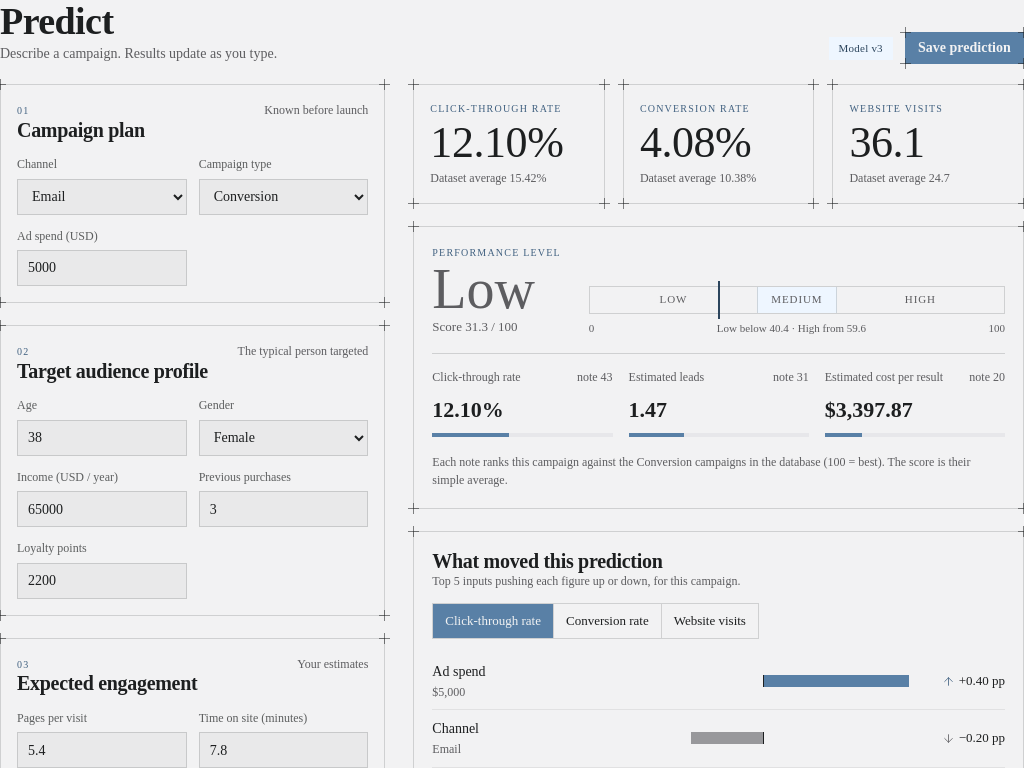
Test case: PredictView (live results, no Predict button) › saves with an optional name (default 'Channel · Type'), then confirms with a toast
Click the button "Save prediction" at (964, 48), box [905,32,1023,64]
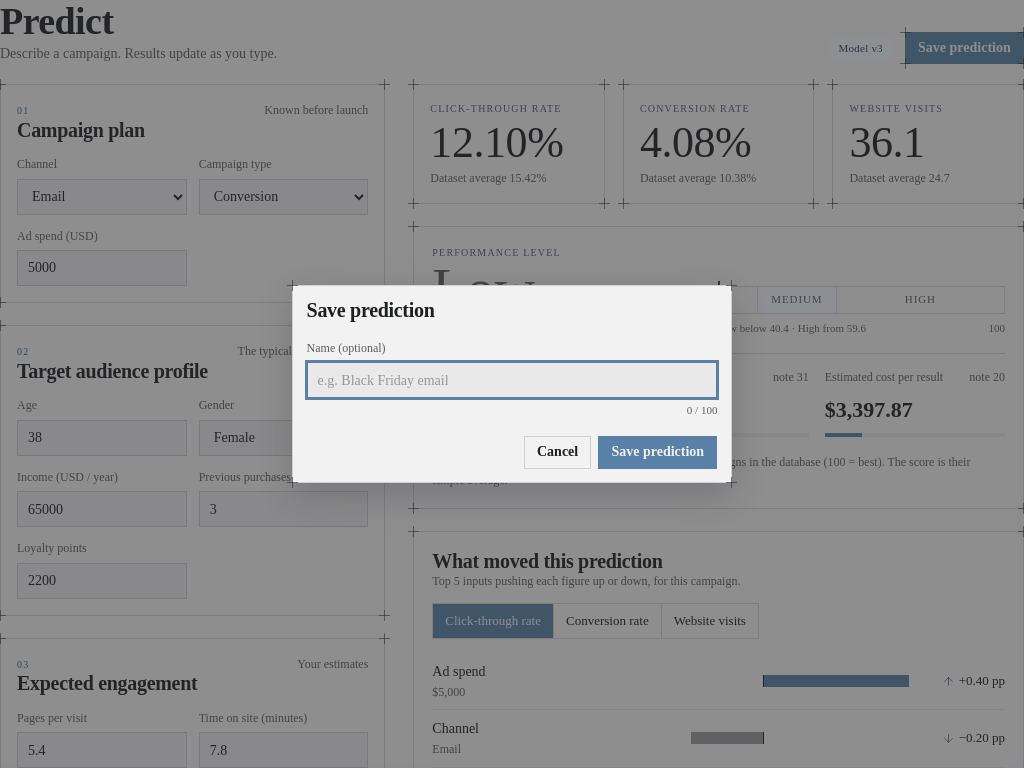
Check: the text "0 / 100" is shown, box [687,404,717,416]
Type "Hello" into the field labelled "Name (optional)" at (512, 380), box [307,362,717,398]
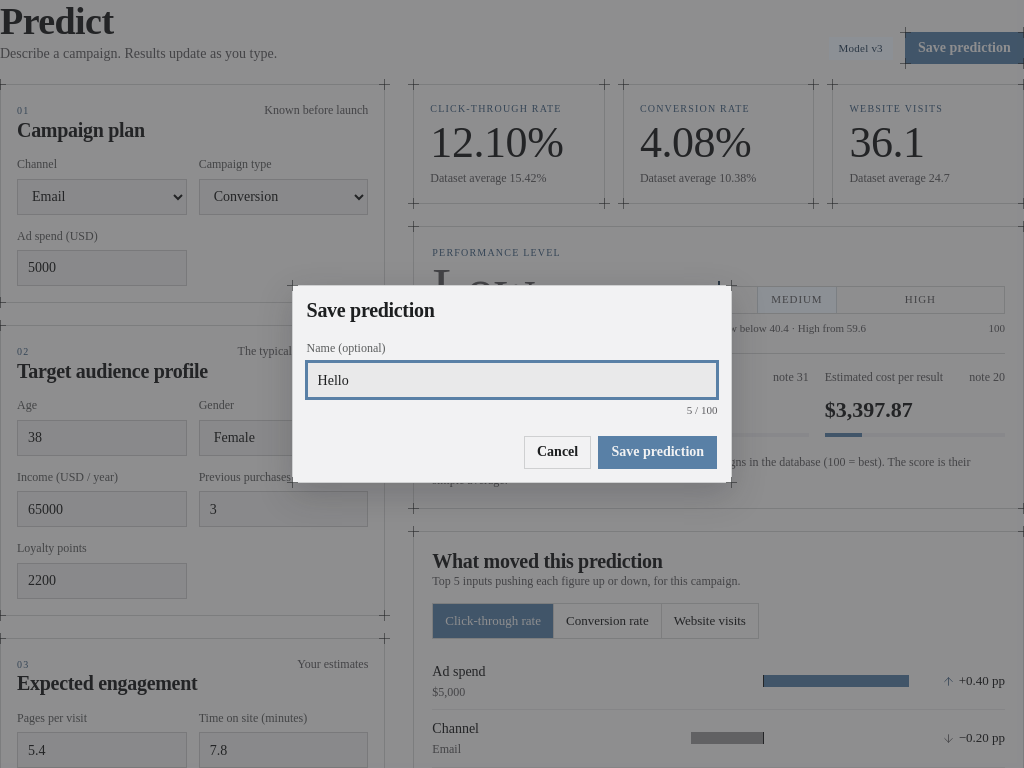
Check: the text "5 / 100" is shown, box [687,404,717,416]
Clear the field labelled "Name (optional)" at (512, 380), box [307,362,717,398]
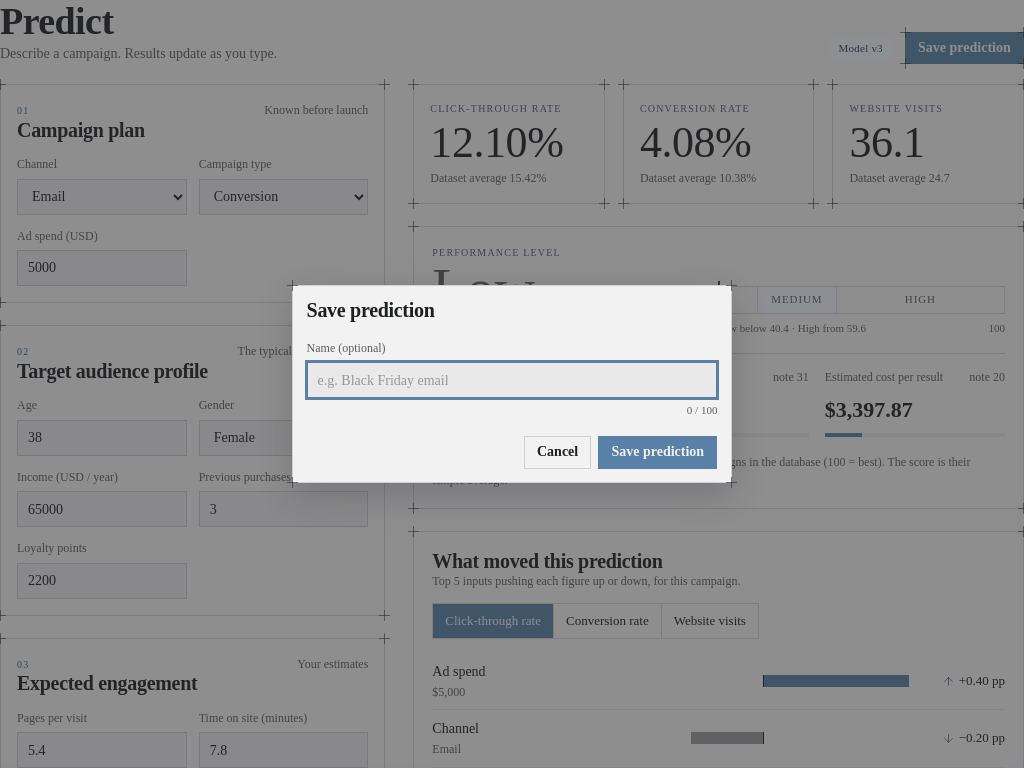
Click the button "Save prediction" at (658, 452), box [598,436,717,469]
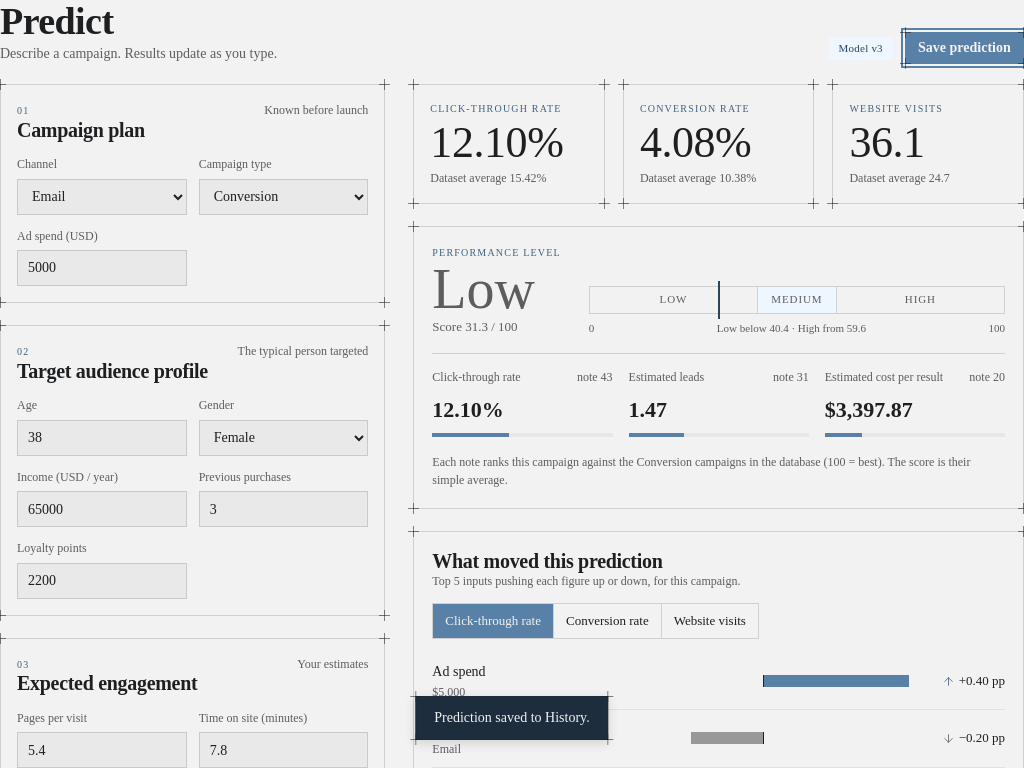
Check: the message with test id "toast" reads "Prediction saved to History.", box [434,710,590,725]
Check: the dialog is gone
